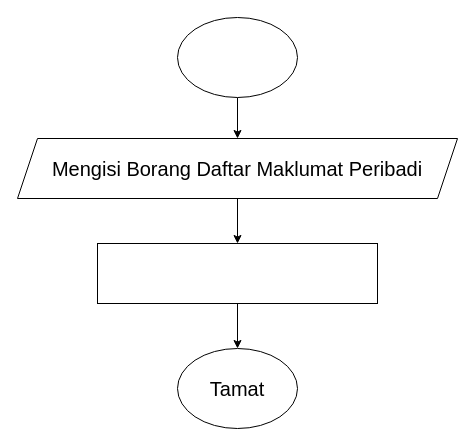
Some shapes in this 475 by 446 pixel diagram are drawn without their labels. Here are the shapes that lost their labels. From the top down, the centre of each, then its label:
At (x=237, y=57): "Mula".
At (x=237, y=273): "Simpan Maklumat Peribadi".
